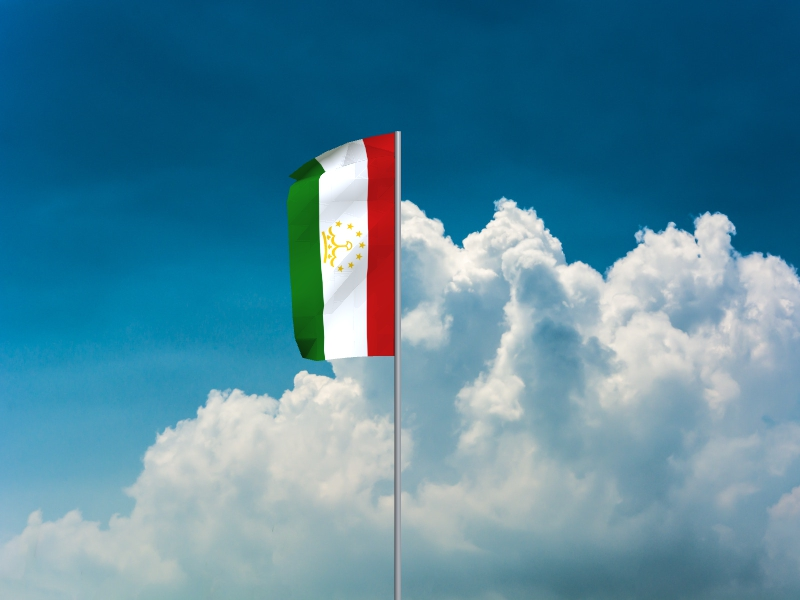tj: (287, 132, 394, 363)
